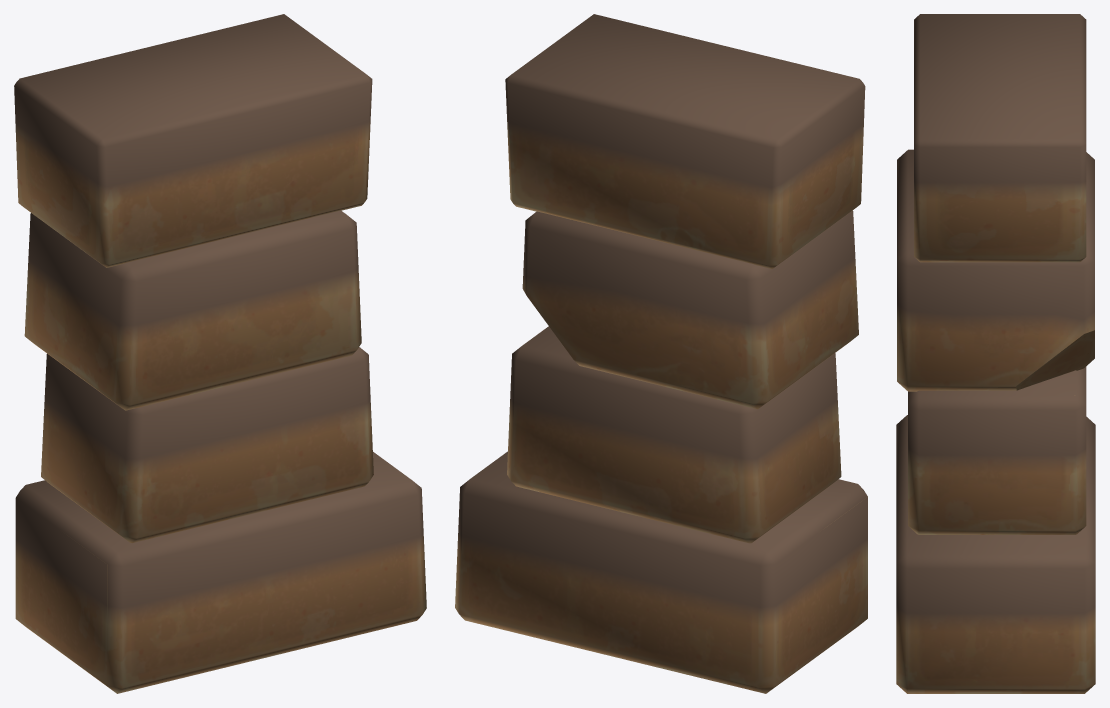
The model's file is SM_brick_02.glb.
3 views of the same model, side by side, from view 1: azimuth 30°, elevation 25°; view 2: azimuth 150°, elevation 25°; view 3: azimuth 270°, elevation 25° (orthographic). The views are drawn at different scales.
Parts seen in each view (by area): view 1: SM_brick_02; view 2: SM_brick_02; view 3: SM_brick_02.
Boxes of the visible parts, x1,y1,x2,y2 form: SM_brick_02: [14, 14, 426, 693]; SM_brick_02: [455, 14, 867, 693]; SM_brick_02: [896, 14, 1095, 693].
Size of the model in its own units: 0.6076 by 0.9912 by 0.3351.
Materials: 1 (1 with a texture image).
